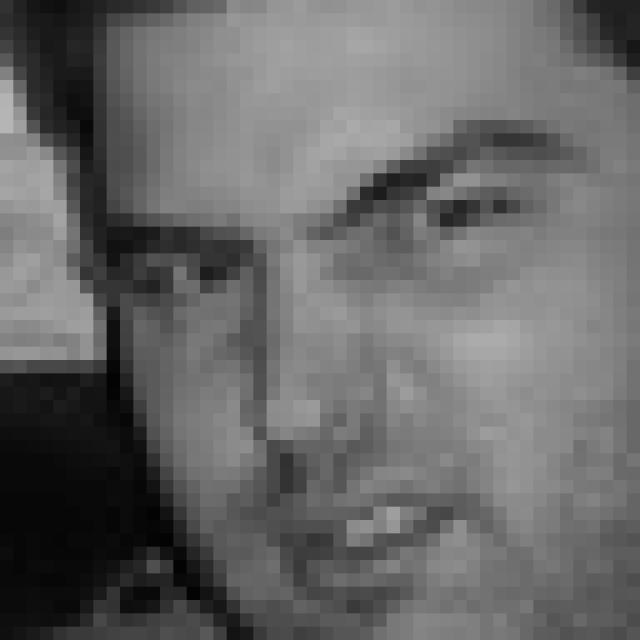disgust: (104, 120, 601, 616)
